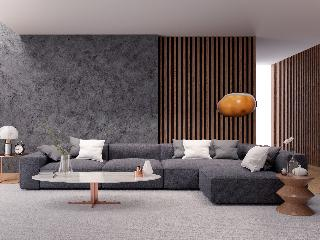potato: (214, 91, 259, 119)
